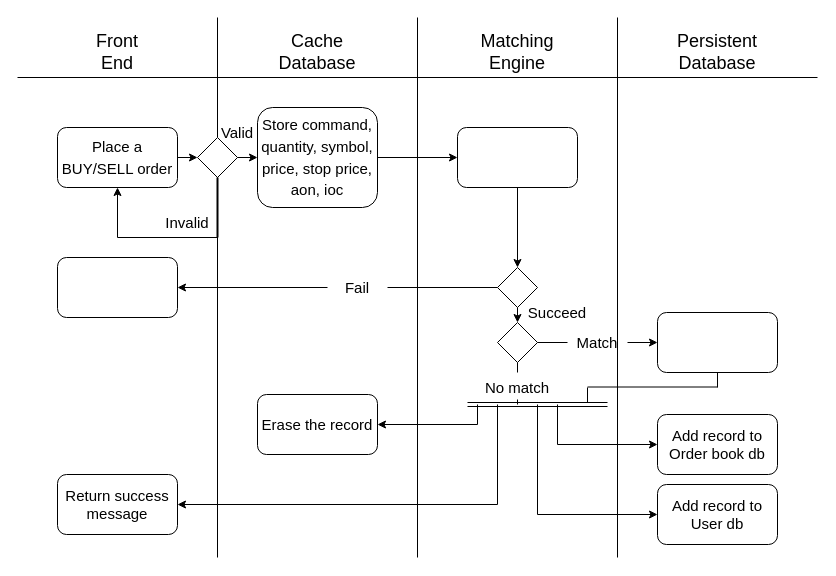
This 836x576 diagram has some shape labels left out. Each missing label, with the centre of its shape:
"Modify corresponding match order" goes at point (717, 342).
"Raise exception" goes at point (117, 287).
"Settle order" goes at point (517, 157).
